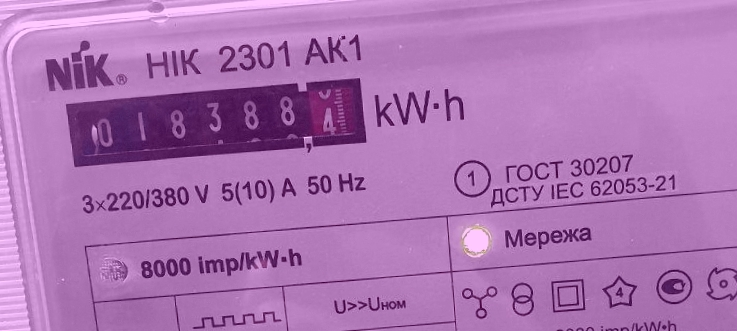0: (93, 113, 115, 151)
1: (130, 106, 151, 144)
3: (203, 99, 225, 135)
4: (317, 103, 339, 137)
8: (165, 104, 189, 142), (275, 92, 298, 129), (239, 97, 261, 134)
screen: (56, 67, 379, 179)
